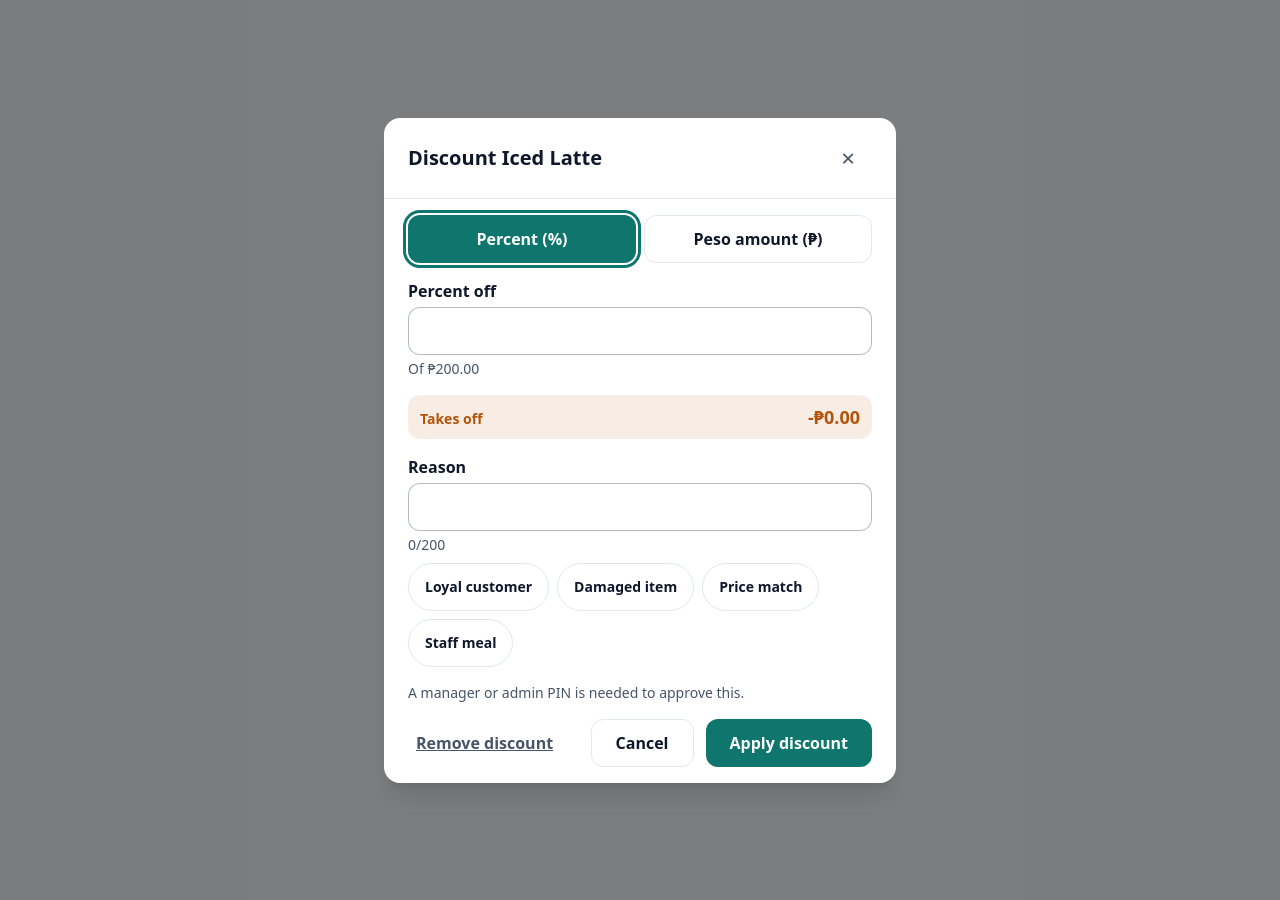
Test: DiscountDialog › needs a reason before applying
Type "10" into the field labelled "Percent off" at (640,330), box x1=408 y1=306 x2=872 y2=354
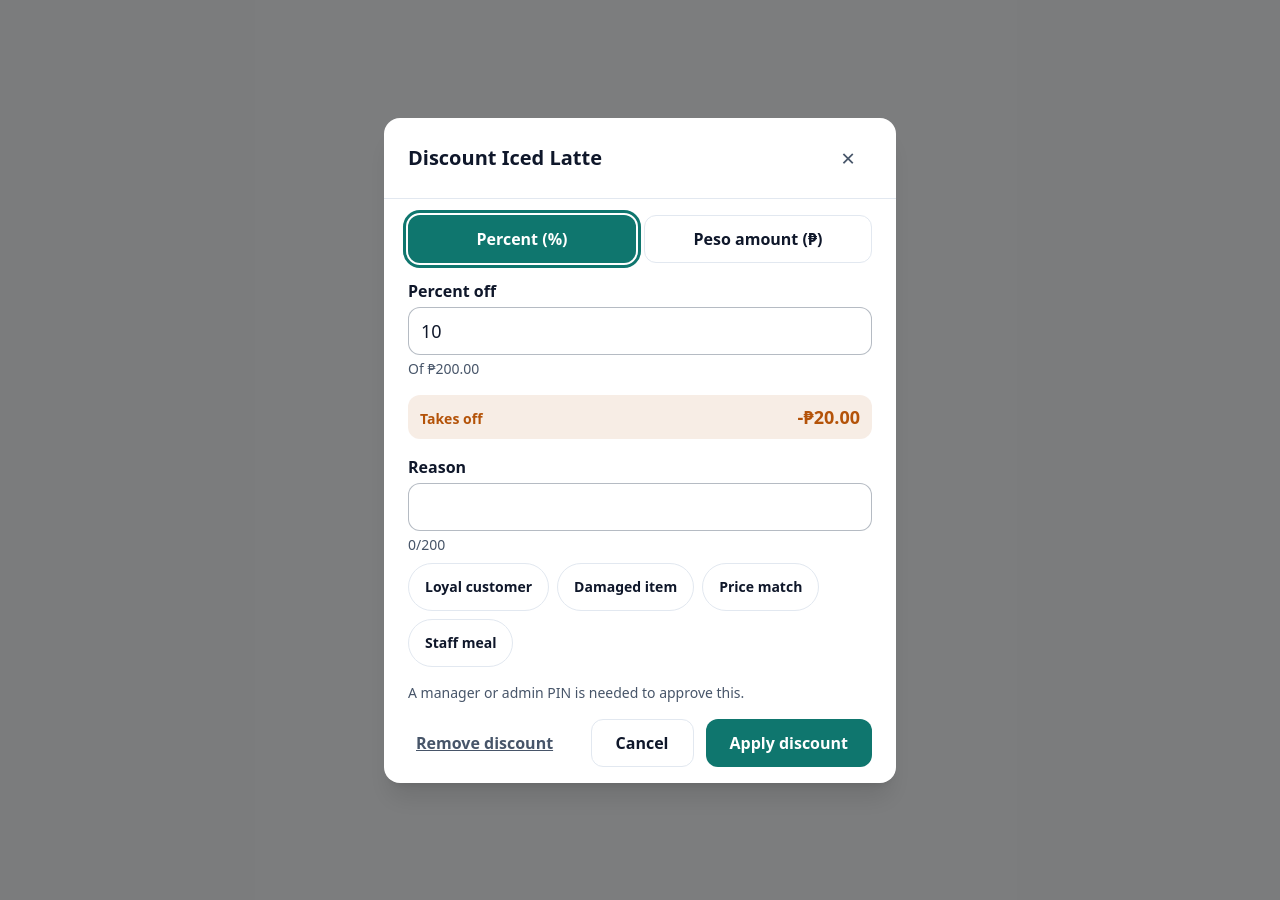
Click the button "Apply discount" at (789,742), box x1=706 y1=718 x2=872 y2=766
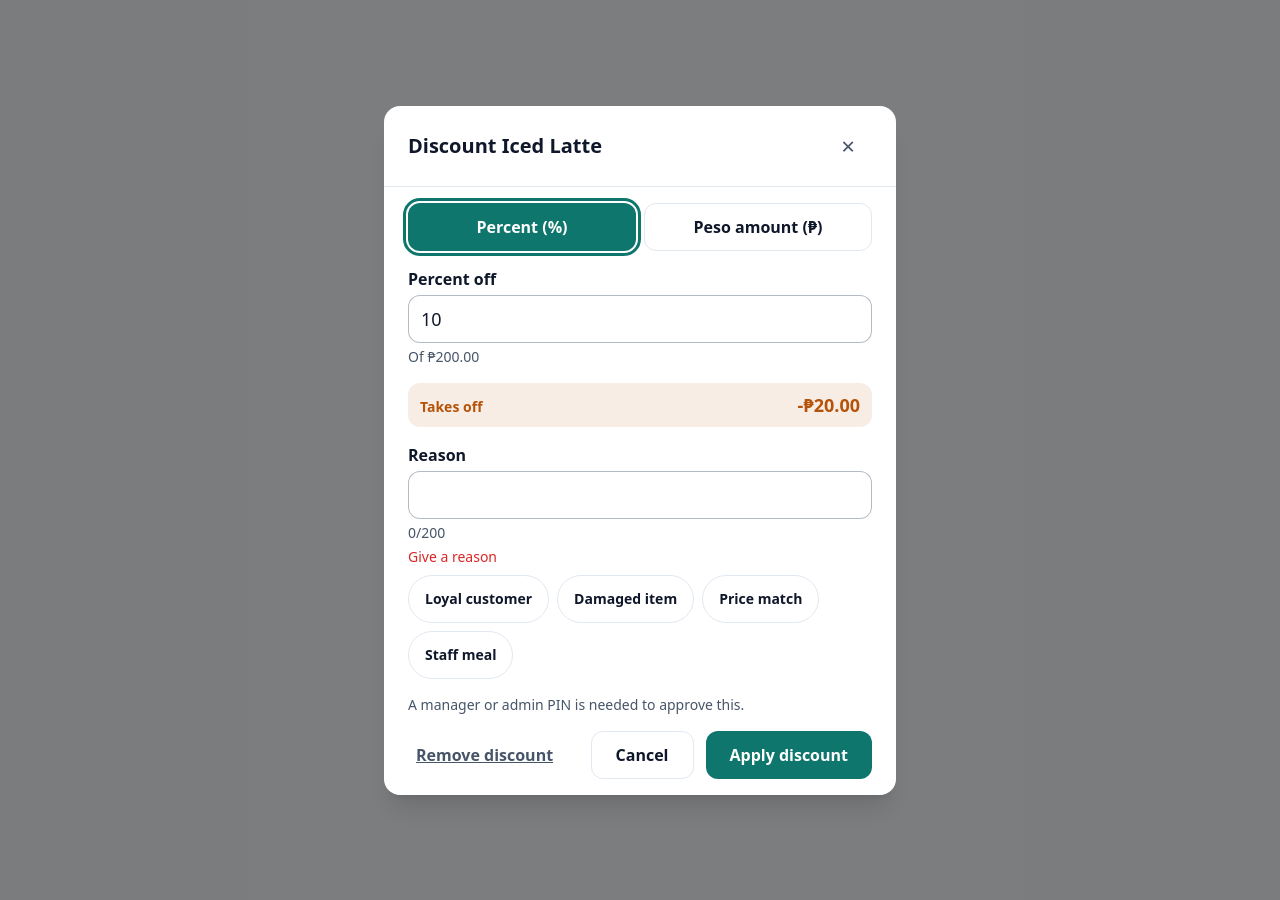
Check: the text "Give a reason" is shown, box x1=408 y1=546 x2=497 y2=566
